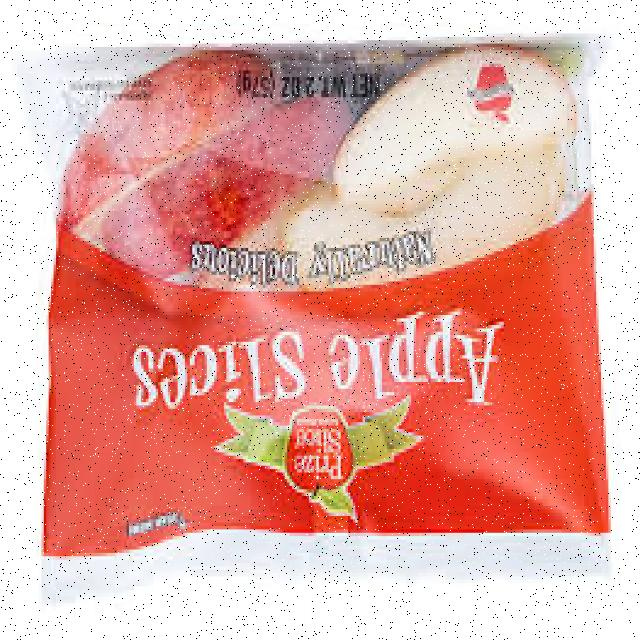Apple: (59, 65, 269, 236), (330, 68, 581, 196), (108, 176, 312, 277)
